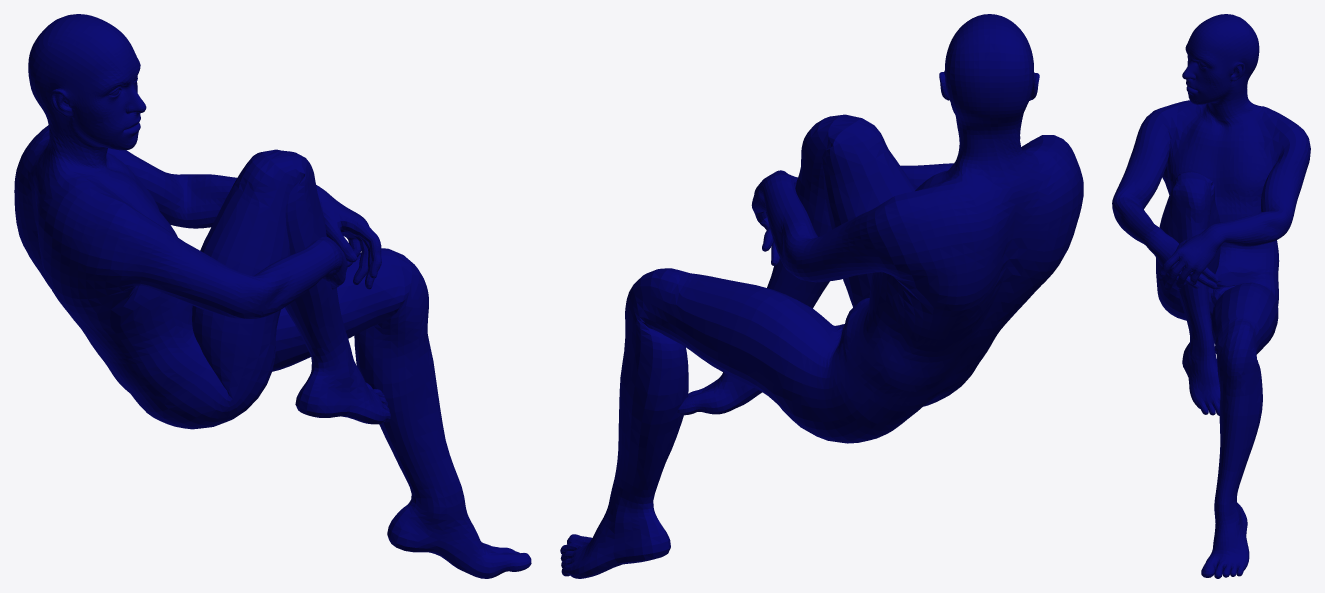
Rendered from pose_original_9.obj.
3 renders of one model, left to right at view 1: azimuth 30°, elevation 25°; view 2: azimuth 150°, elevation 25°; view 3: azimuth 270°, elevation 25°, orthographic. The views are drawn at different scales.
Size of the model in its own units: 1.71 by 2.16 by 0.9123.
